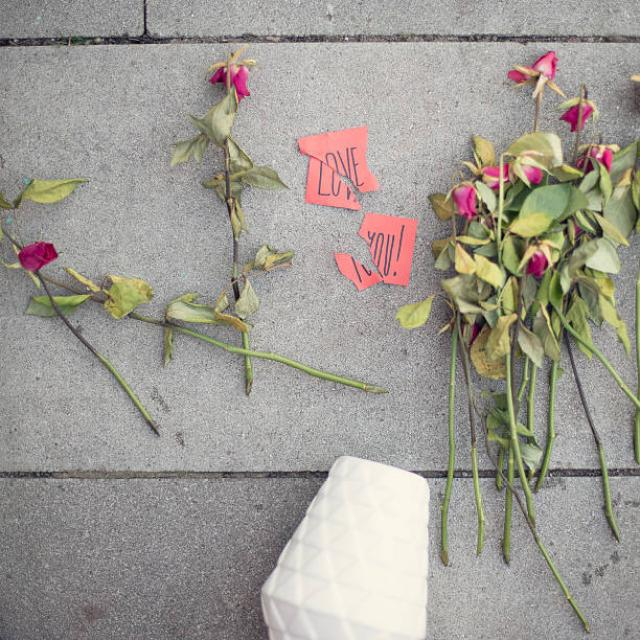paper: (429, 37, 640, 406), (206, 54, 280, 318)
